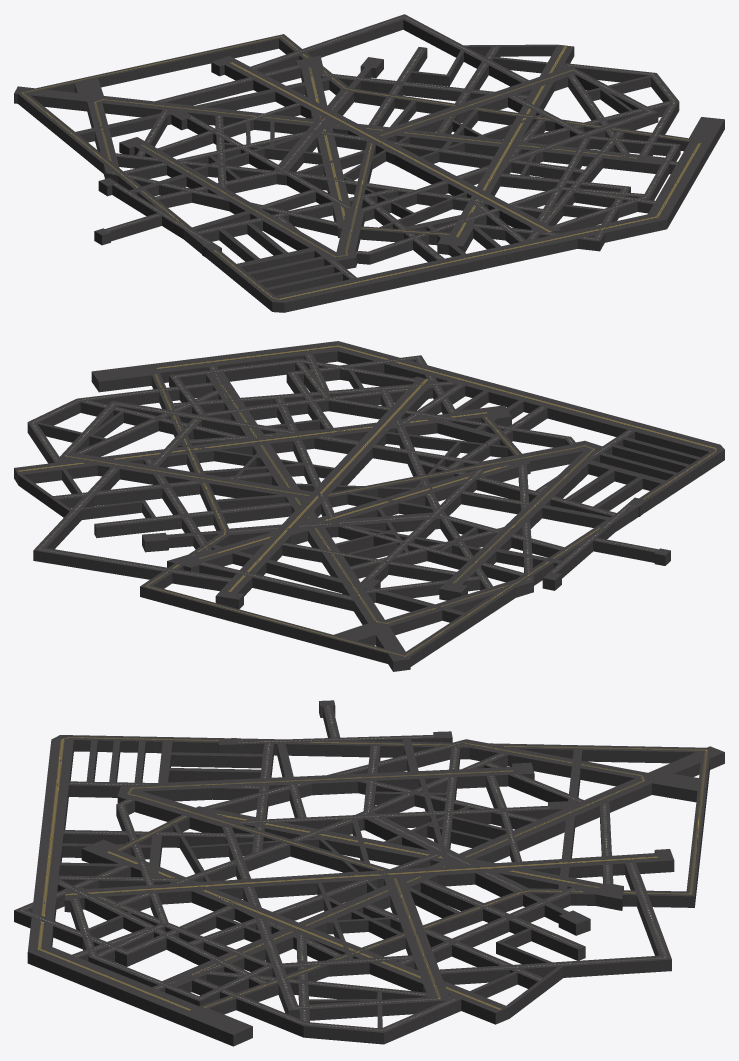
Rendered from Roads.fbx.
3 views of the same model, one above another, from view 1: azimuth 30°, elevation 25°; view 2: azimuth 150°, elevation 25°; view 3: azimuth 270°, elevation 25° (orthographic). The views are drawn at different scales.
Visible parts, largest first — view 1: Road_1, Road_2, Road_3; view 2: Road_1, Road_2, Road_3; view 3: Road_2, Road_1, Road_3.
Part boxes in pixels (x1,y1,x2,y2): Road_1: (16,34,724,312); Road_2: (14,44,679,254); Road_3: (94,14,680,269); Road_1: (91,341,724,666); Road_2: (14,355,533,671); Road_3: (33,359,670,609); Road_2: (14,739,724,1044); Road_1: (27,735,710,1046); Road_3: (64,700,674,1020).
Bounding box in the file's own units: 107 × 1.73 × 96.11.
